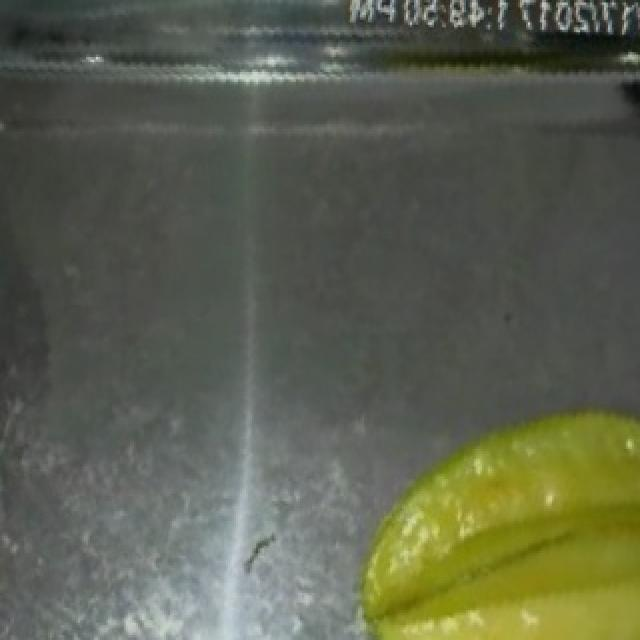fruit: (334, 367, 638, 640)
